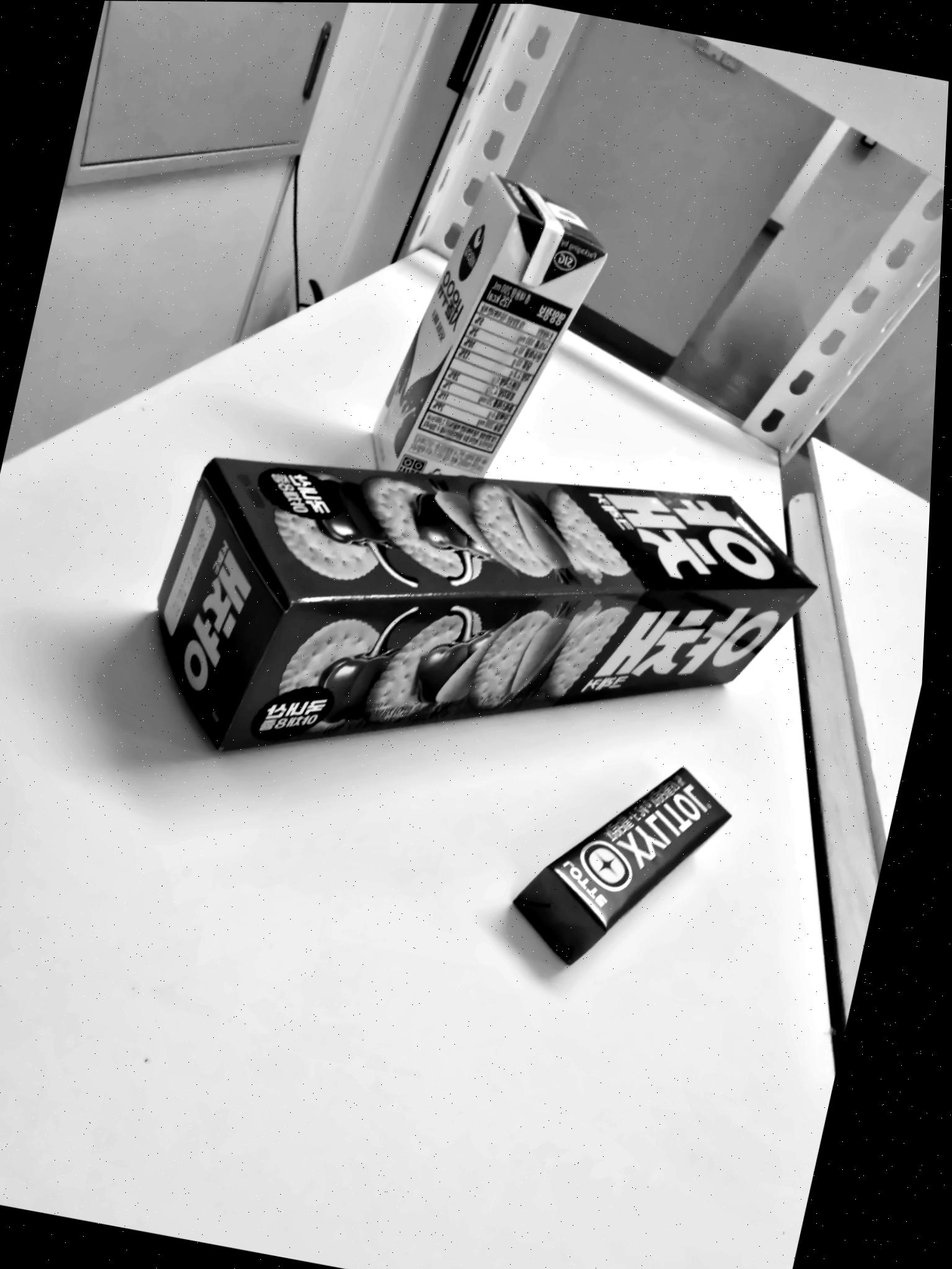cracker_vege: (158, 458, 815, 750)
gum_green: (515, 769, 730, 963)
milk_green: (374, 174, 606, 477)
